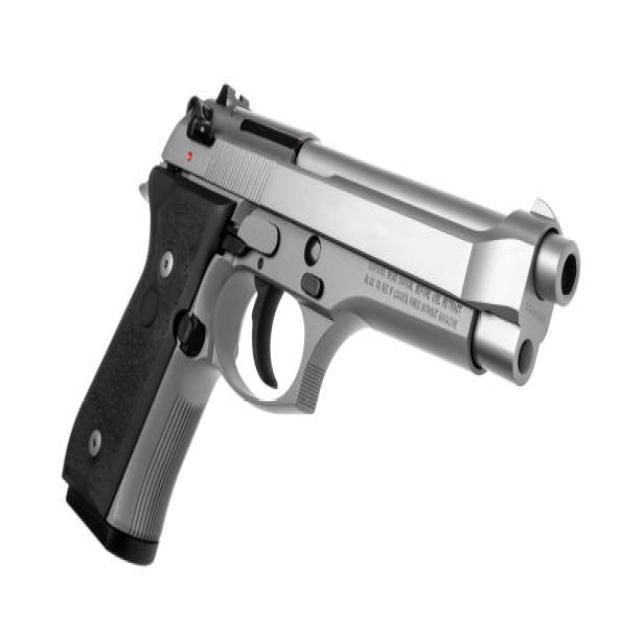pistol: (49, 77, 589, 569)
